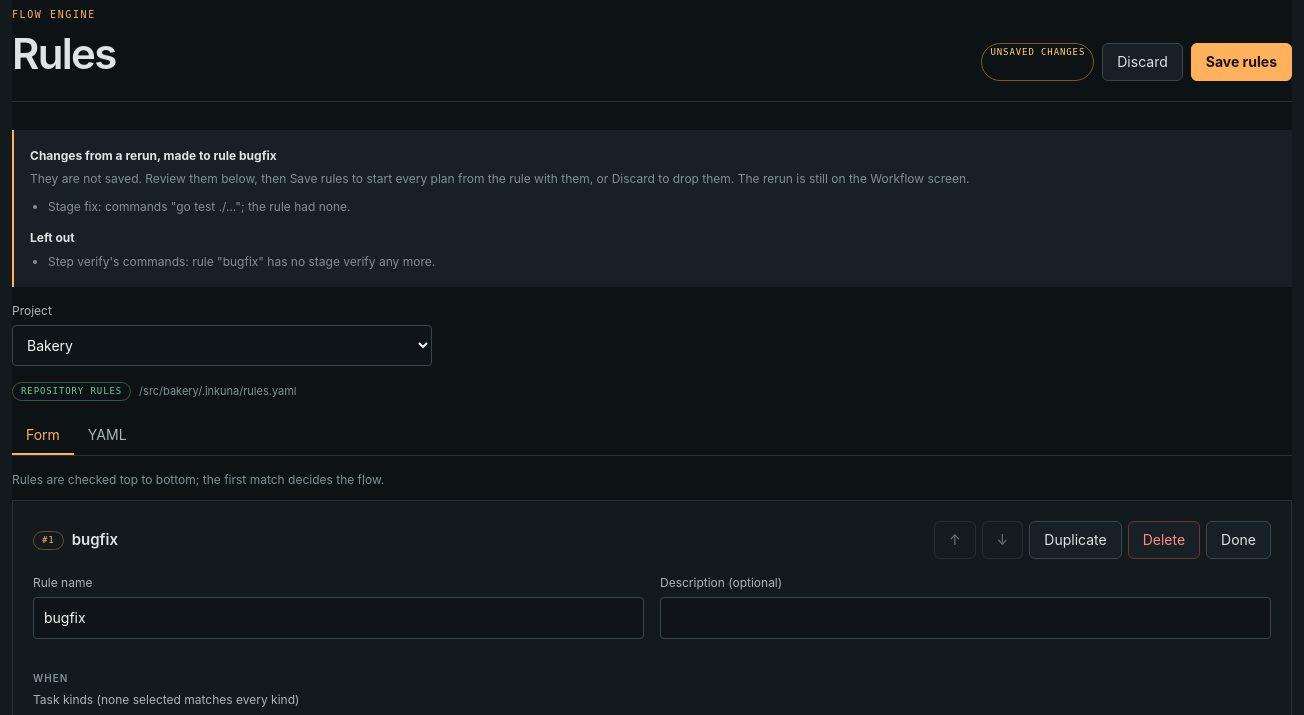
Test case: RulesView › shows a rerun's changes to its rule unsaved, and saves them only when the person does
The width and height of the screenshot is (1304, 715).
Check: the element "Changes from a rerun" shows "Changes from a rerun, made to rule bugfix", box [30,148,277,162]
Check: the list named "Changes made" reads "Stage fix: commands \"go test ./...\"; the rule had none.", box [48,198,351,214]
Step 1. Click the button "Save rules" → (1241, 62), box [1191,42,1292,80]
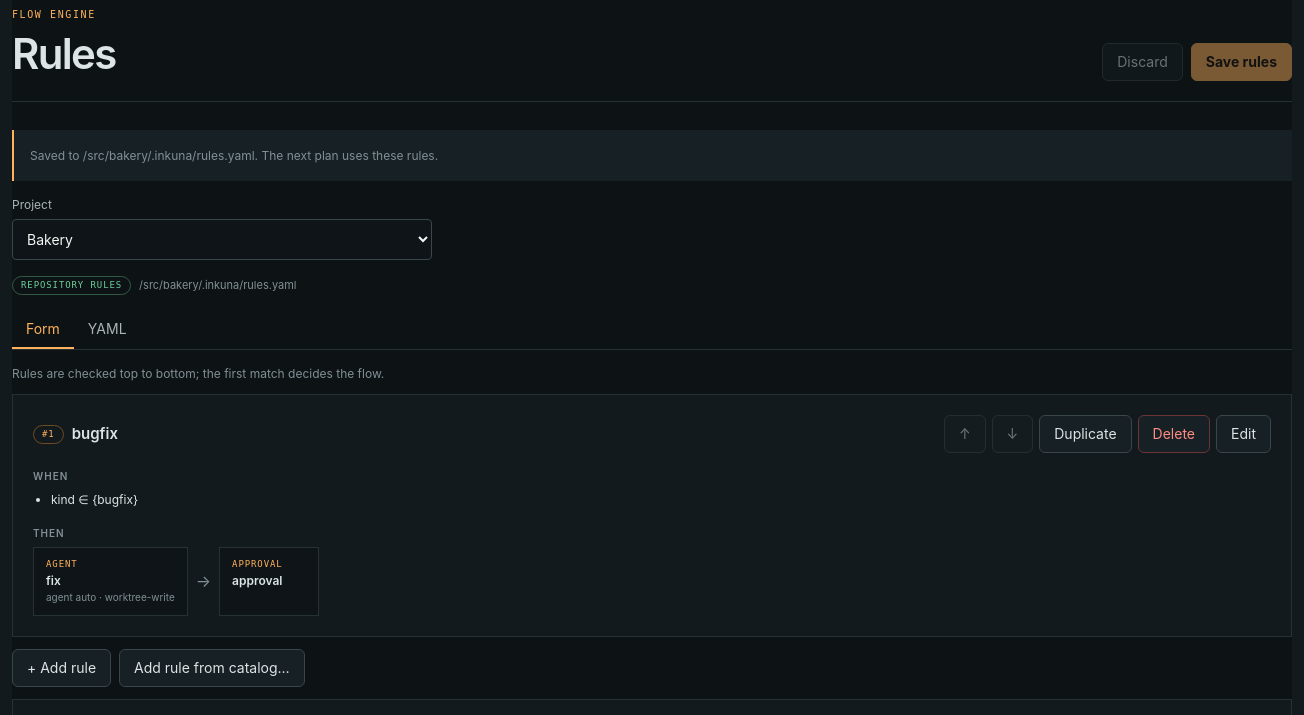
Check: the text "Saved to /src/bakery/.inkuna/rules.yaml. The next plan uses these rules." is shown, box [12,130,1292,181]
Check: the text "Changes from a rerun" is gone
